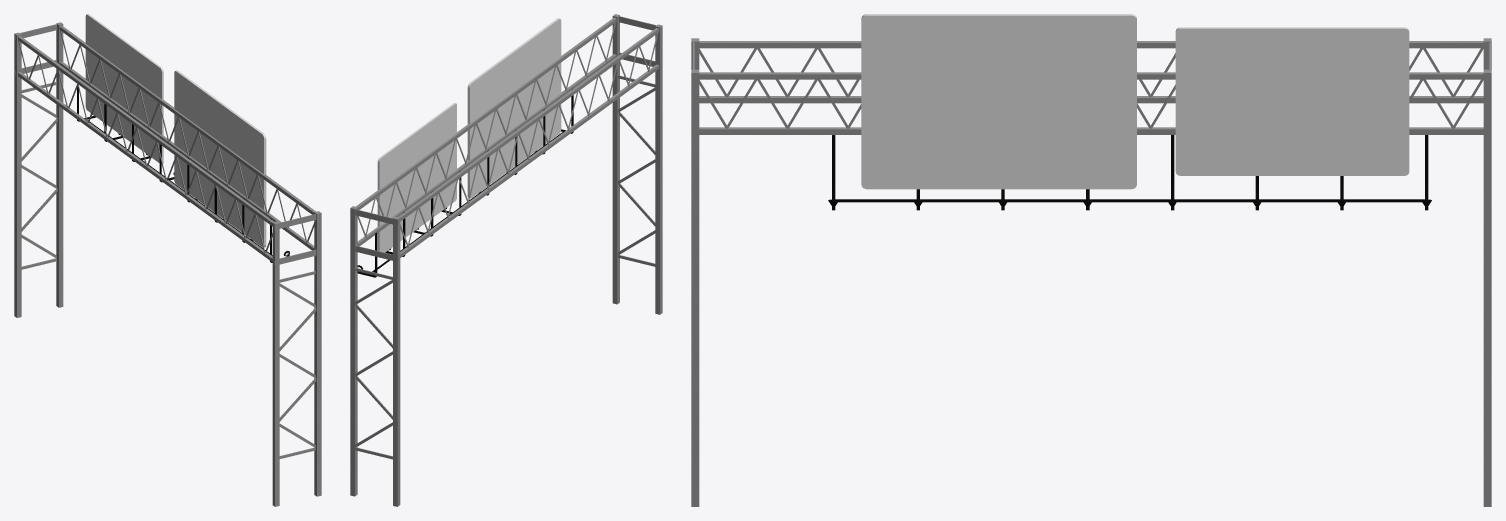
File: uploads_files_3152711_HighwaySignBoard_Up_Right.fbx
3 views of the same model, side by side, from view 1: azimuth 30°, elevation 25°; view 2: azimuth 150°, elevation 25°; view 3: azimuth 270°, elevation 25° (orthographic). The views are drawn at different scales.
Parts seen in each view (by area): view 1: Cube.001, Cube, Cube.005; view 2: Cube.001, Cube, Cube.005; view 3: Cube, Cube.005, Cube.001.
Boxes of the visible parts, x1,y1,x2,y2 form: Cube.001: (14,22,321,506); Cube: (174,70,266,247); Cube.005: (85,14,163,163); Cube.001: (350,14,662,506); Cube: (467,18,561,198); Cube.005: (377,103,456,252); Cube: (861,14,1136,189); Cube.005: (1175,27,1409,175); Cube.001: (691,38,1491,506).
Size of the model in its own units: 1000 by 135 by 677.
5 materials, 1 textured.
